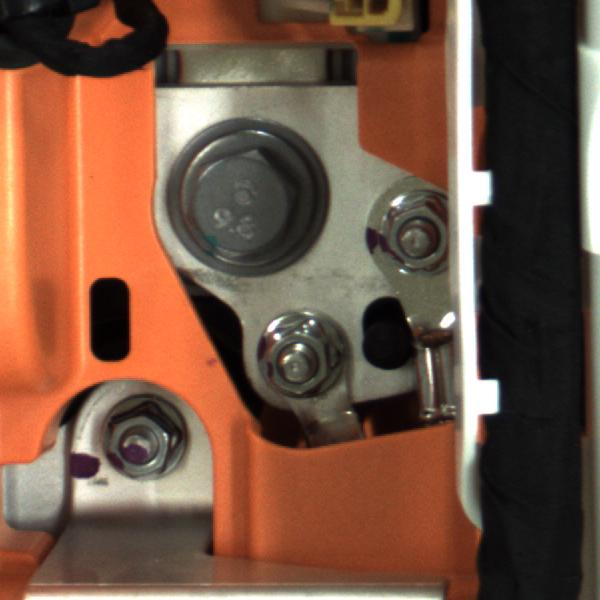nut_b: (155, 112, 341, 285)
screw_s: (100, 401, 203, 482), (257, 314, 354, 393), (383, 192, 457, 271)
